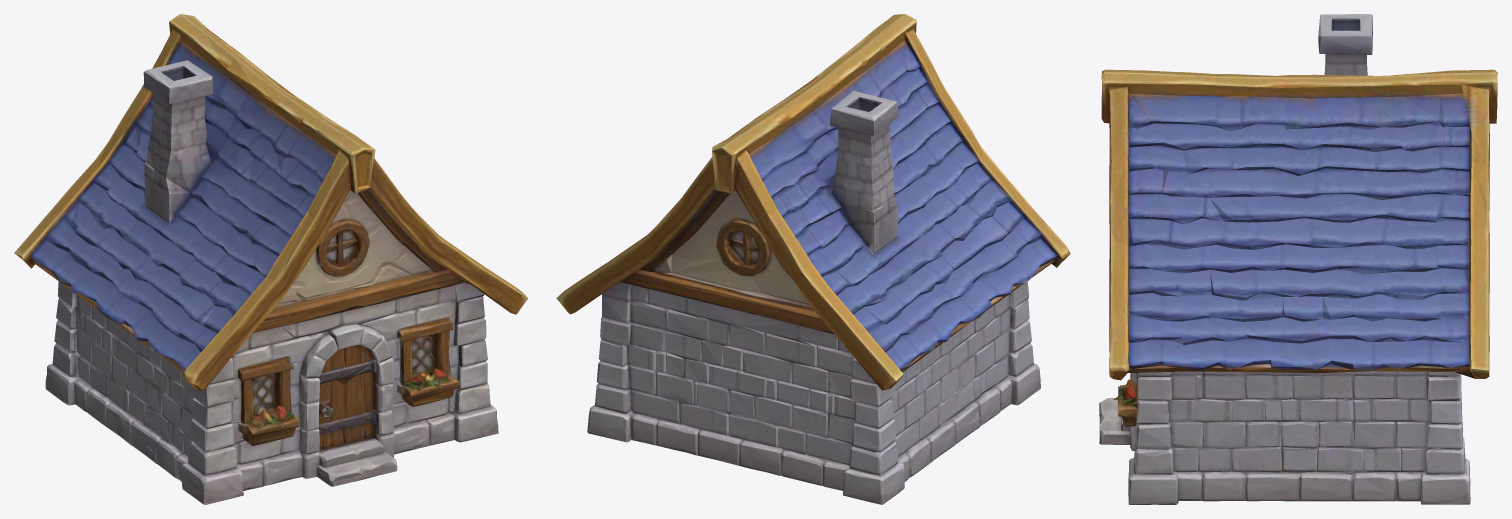
File: oc_cottage.glb
The picture shows the model from 3 angles, left to right: view 1: azimuth 30°, elevation 25°; view 2: azimuth 150°, elevation 25°; view 3: azimuth 270°, elevation 25°; orthographic projection. The views are drawn at different scales.
Visible parts, largest first — view 1: W_city_house_1storey_cottage; view 2: W_city_house_1storey_cottage; view 3: W_city_house_1storey_cottage.
Boxes of the visible parts, bbox=[...] form: W_city_house_1storey_cottage: bbox=[14, 14, 527, 504]; W_city_house_1storey_cottage: bbox=[556, 14, 1070, 504]; W_city_house_1storey_cottage: bbox=[1099, 14, 1497, 504].
Bounding box in the file's own units: 7.7 × 7.36 × 7.26.
Materials: 1 (1 with a texture image).
